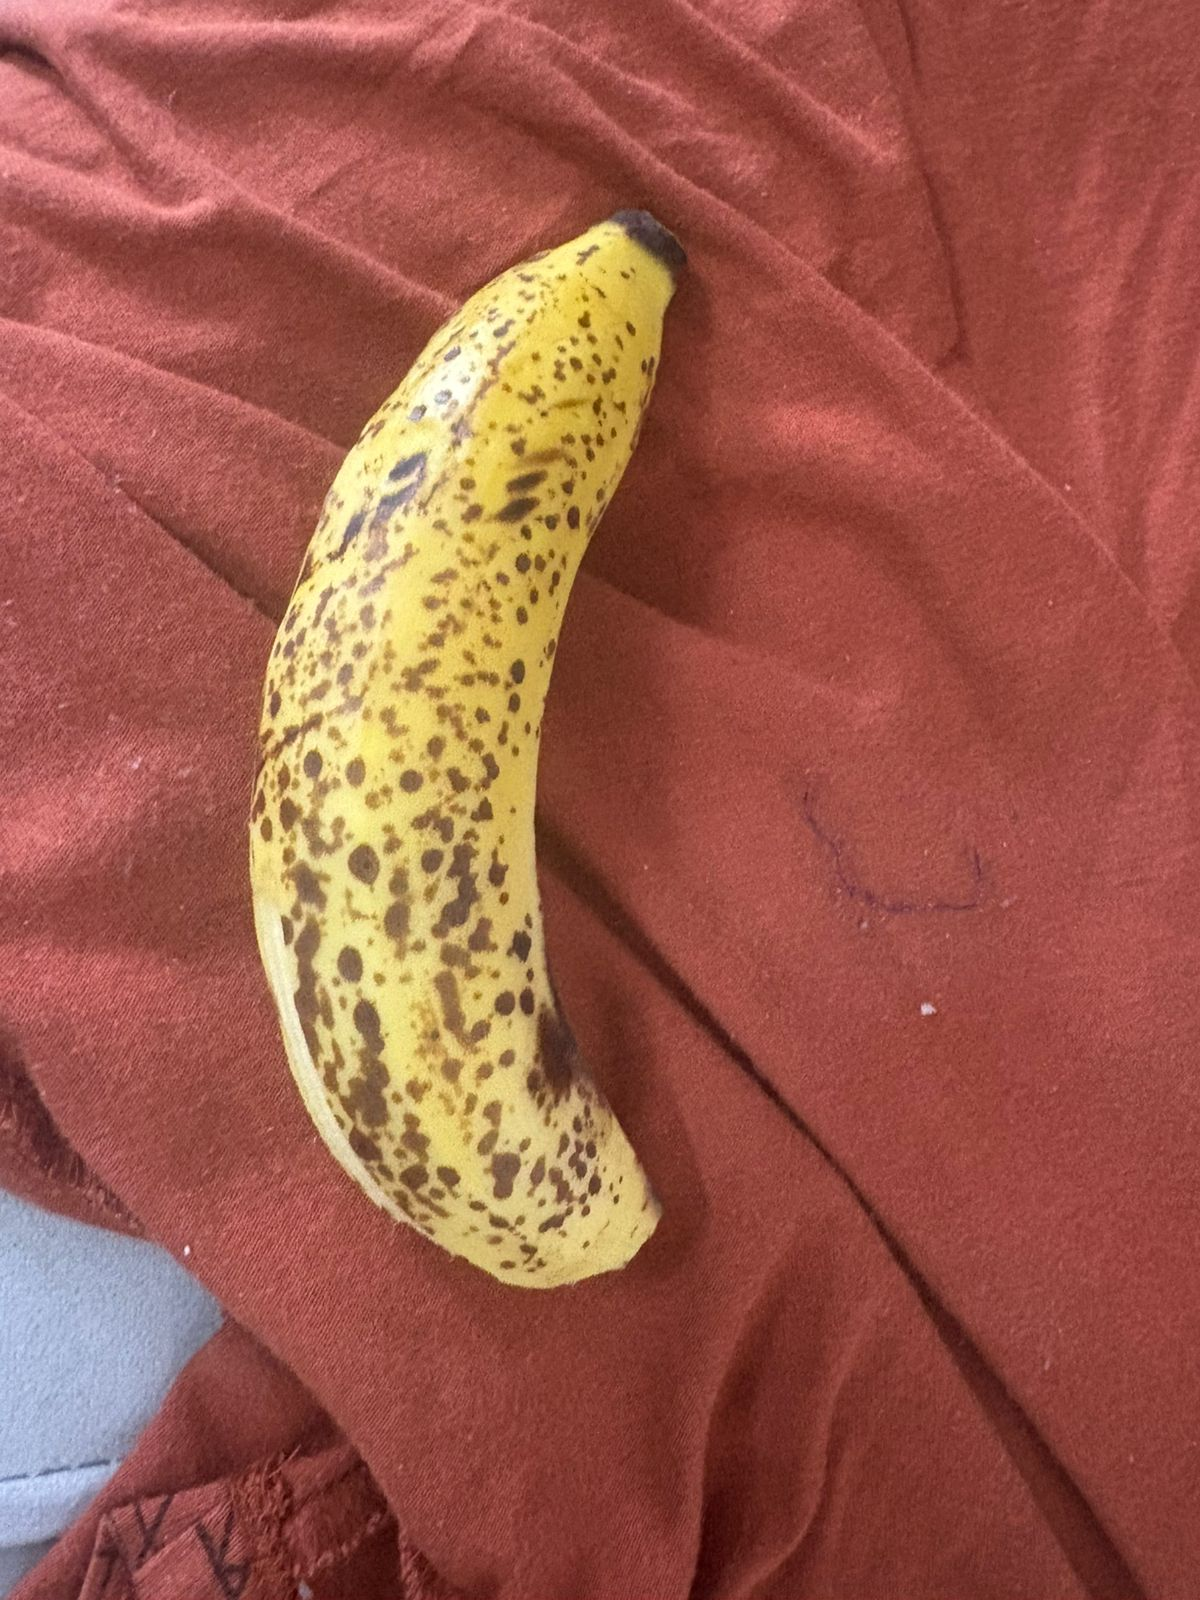wet: (188, 186, 758, 1314)
